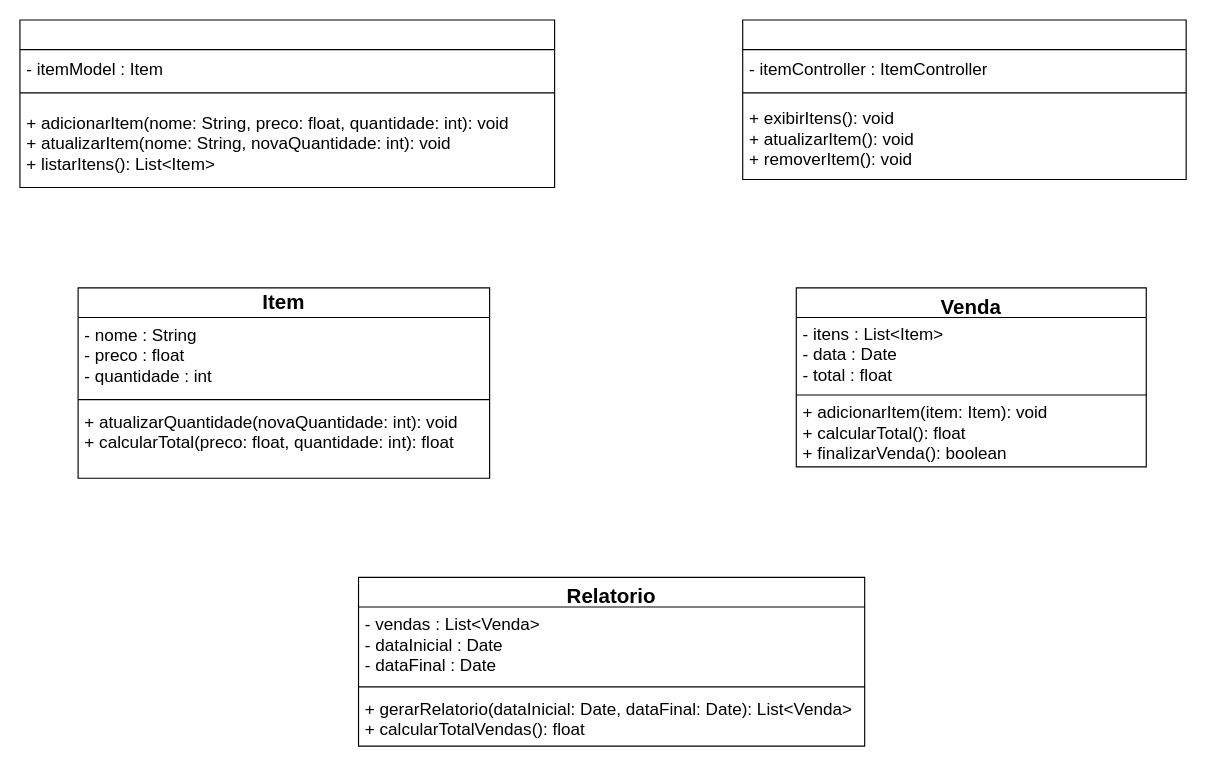
Some shapes in this 1206 by 770 pixel diagram are drawn without their labels. The box of each missing label's shape, as (x1, y1, x2, y2) in pixels:
ItemController: (19, 19, 555, 188)
ItemView: (742, 19, 1186, 180)
